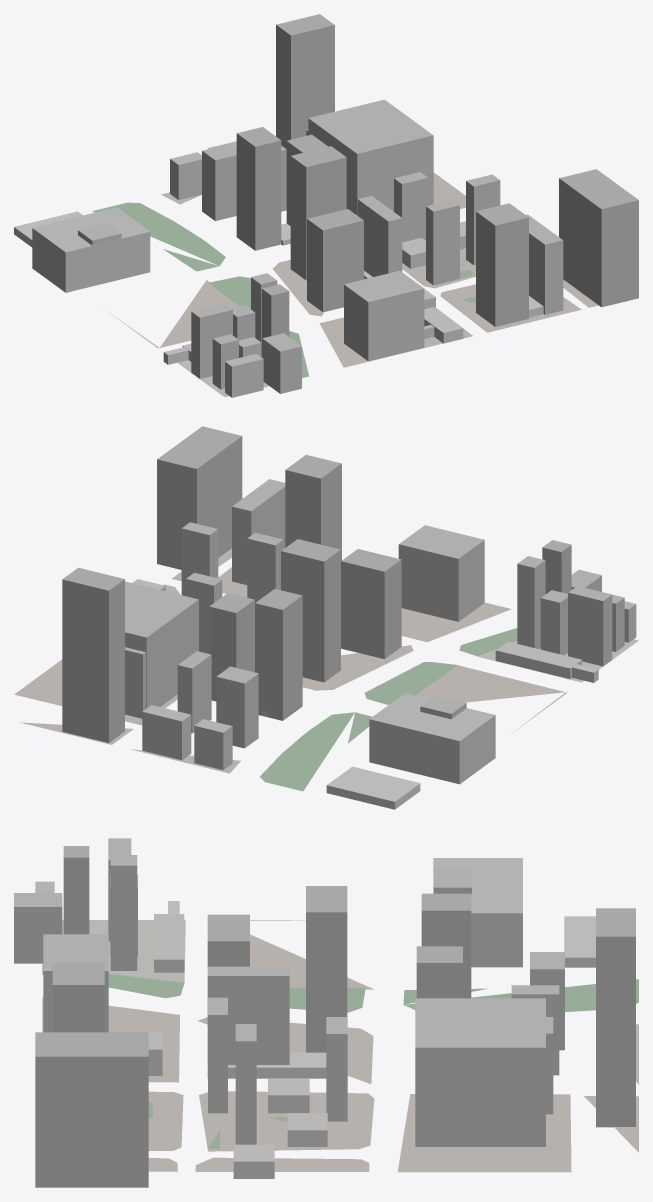
Rendered from 119_76_mid.glb.
The picture shows the model from 3 angles, top to bottom: view 1: azimuth 30°, elevation 25°; view 2: azimuth 150°, elevation 25°; view 3: azimuth 270°, elevation 25°; orthographic projection. The views are drawn at different scales.
Size of the model in its own units: 547 by 176 by 524.
